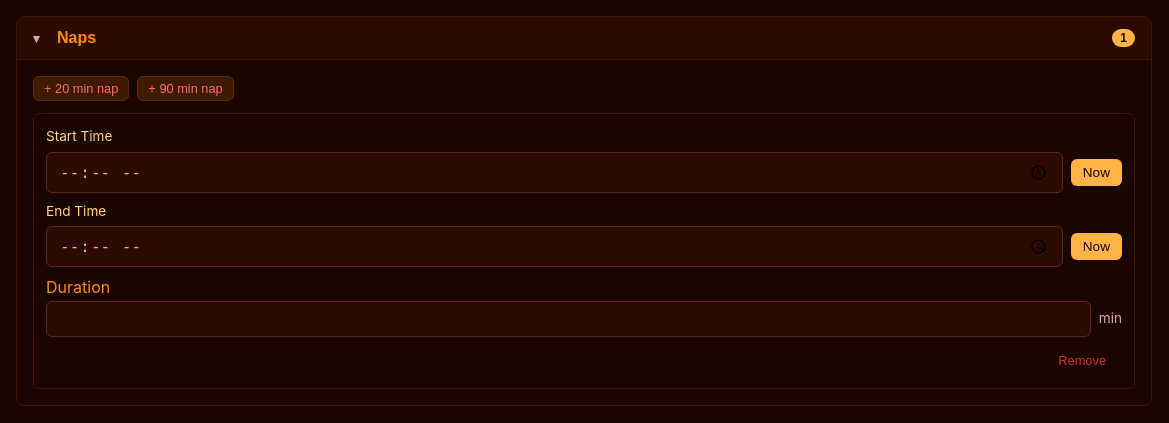
Scenario: NapSection › computes duration from start + end
Type "14:00" into the time field below "Start Time".
click(554, 172); type("14:00")  # box [46, 152, 1063, 193]
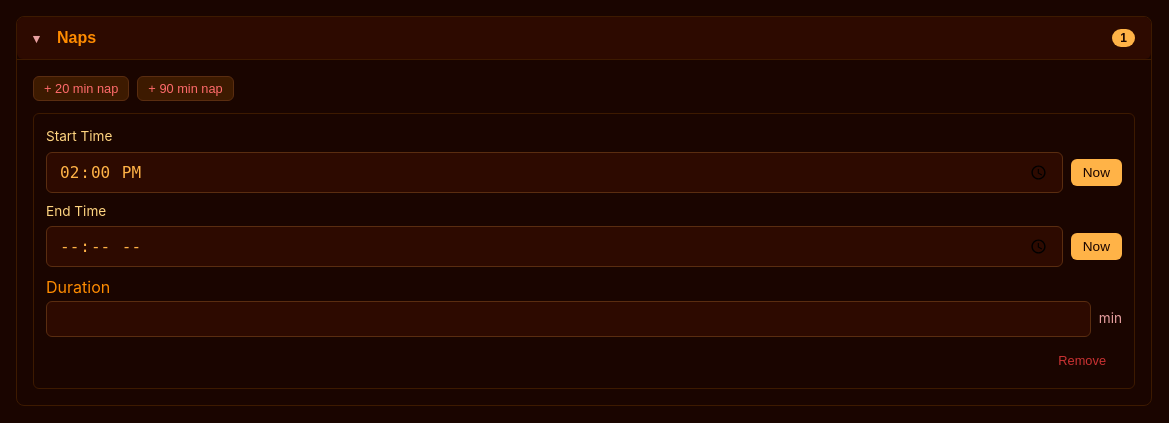
Type "14:45" into the time field below "End Time".
click(554, 247); type("14:45")  # box [46, 226, 1063, 267]
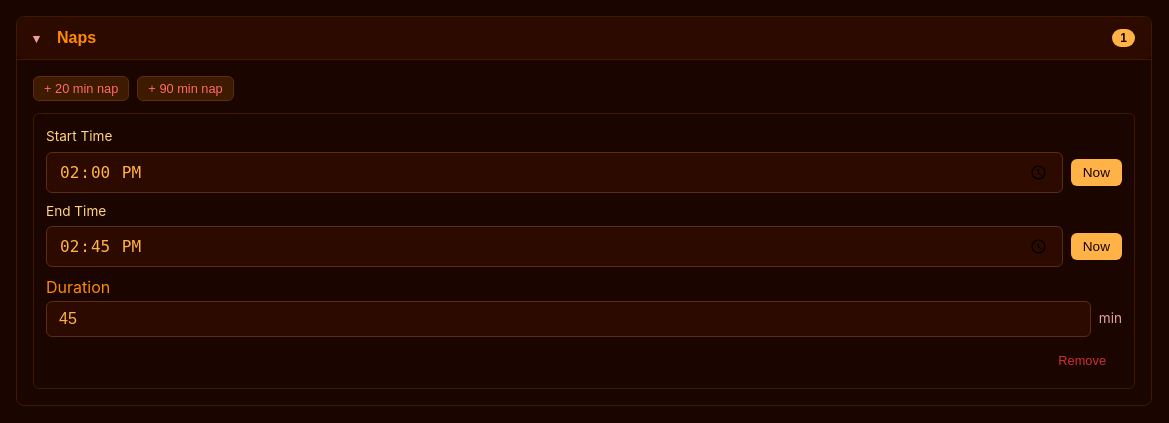
Expected: the number field holds "45", [46, 301, 1091, 337]
